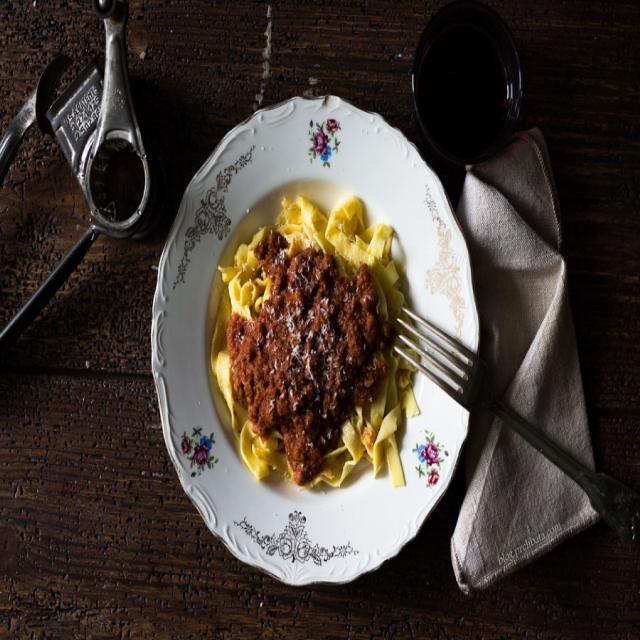Pasta al ragu: (199, 143, 445, 501)
